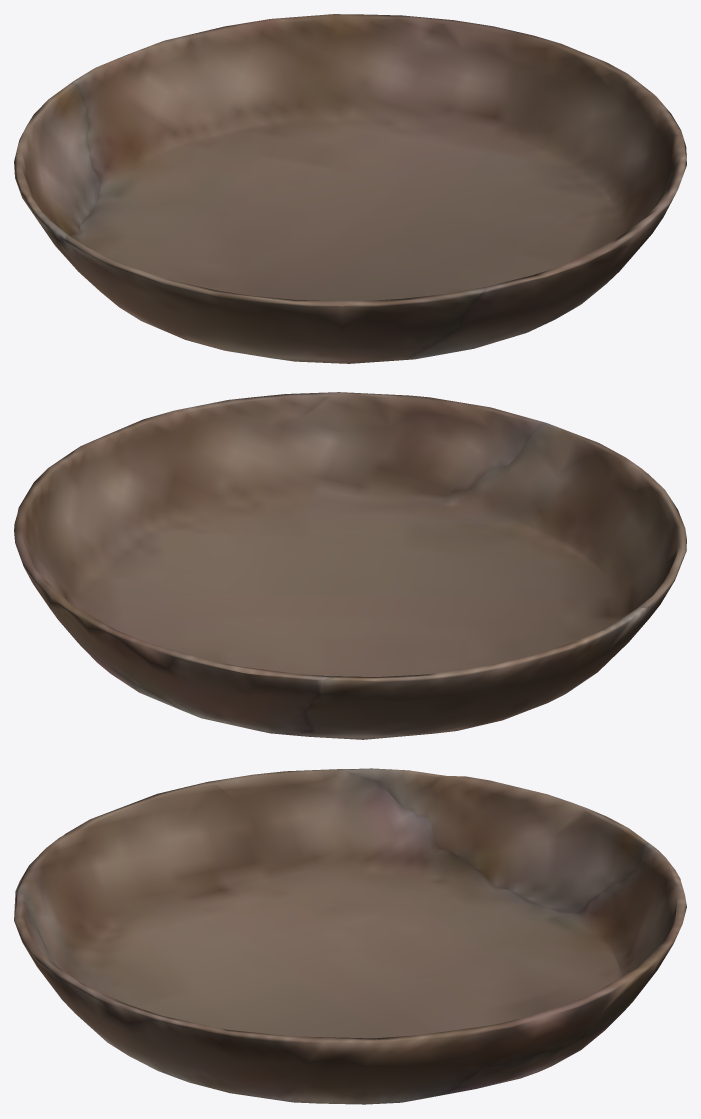
File: Ecoforms_Plant_Saucer_S17MOCHA-medium.glb
3 renders of one model, top to bottom at view 1: azimuth 30°, elevation 25°; view 2: azimuth 150°, elevation 25°; view 3: azimuth 270°, elevation 25°, orthographic.
Visible parts, largest first — view 1: Ecoforms_Plant_Saucer_S17MOCHA; view 2: Ecoforms_Plant_Saucer_S17MOCHA; view 3: Ecoforms_Plant_Saucer_S17MOCHA.
Part boxes in pixels (bbox=[...]): Ecoforms_Plant_Saucer_S17MOCHA: bbox=[14, 14, 686, 363]; Ecoforms_Plant_Saucer_S17MOCHA: bbox=[14, 392, 686, 739]; Ecoforms_Plant_Saucer_S17MOCHA: bbox=[14, 768, 686, 1104].
Bounding box in the file's own units: 0.1764 × 0.0303 × 0.1766.
Materials: 1 (1 with a texture image).
